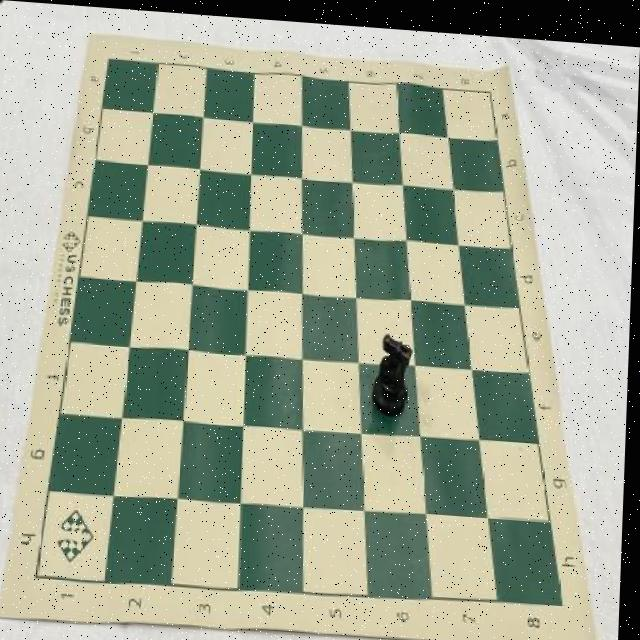black-king: (375, 327, 416, 415)
